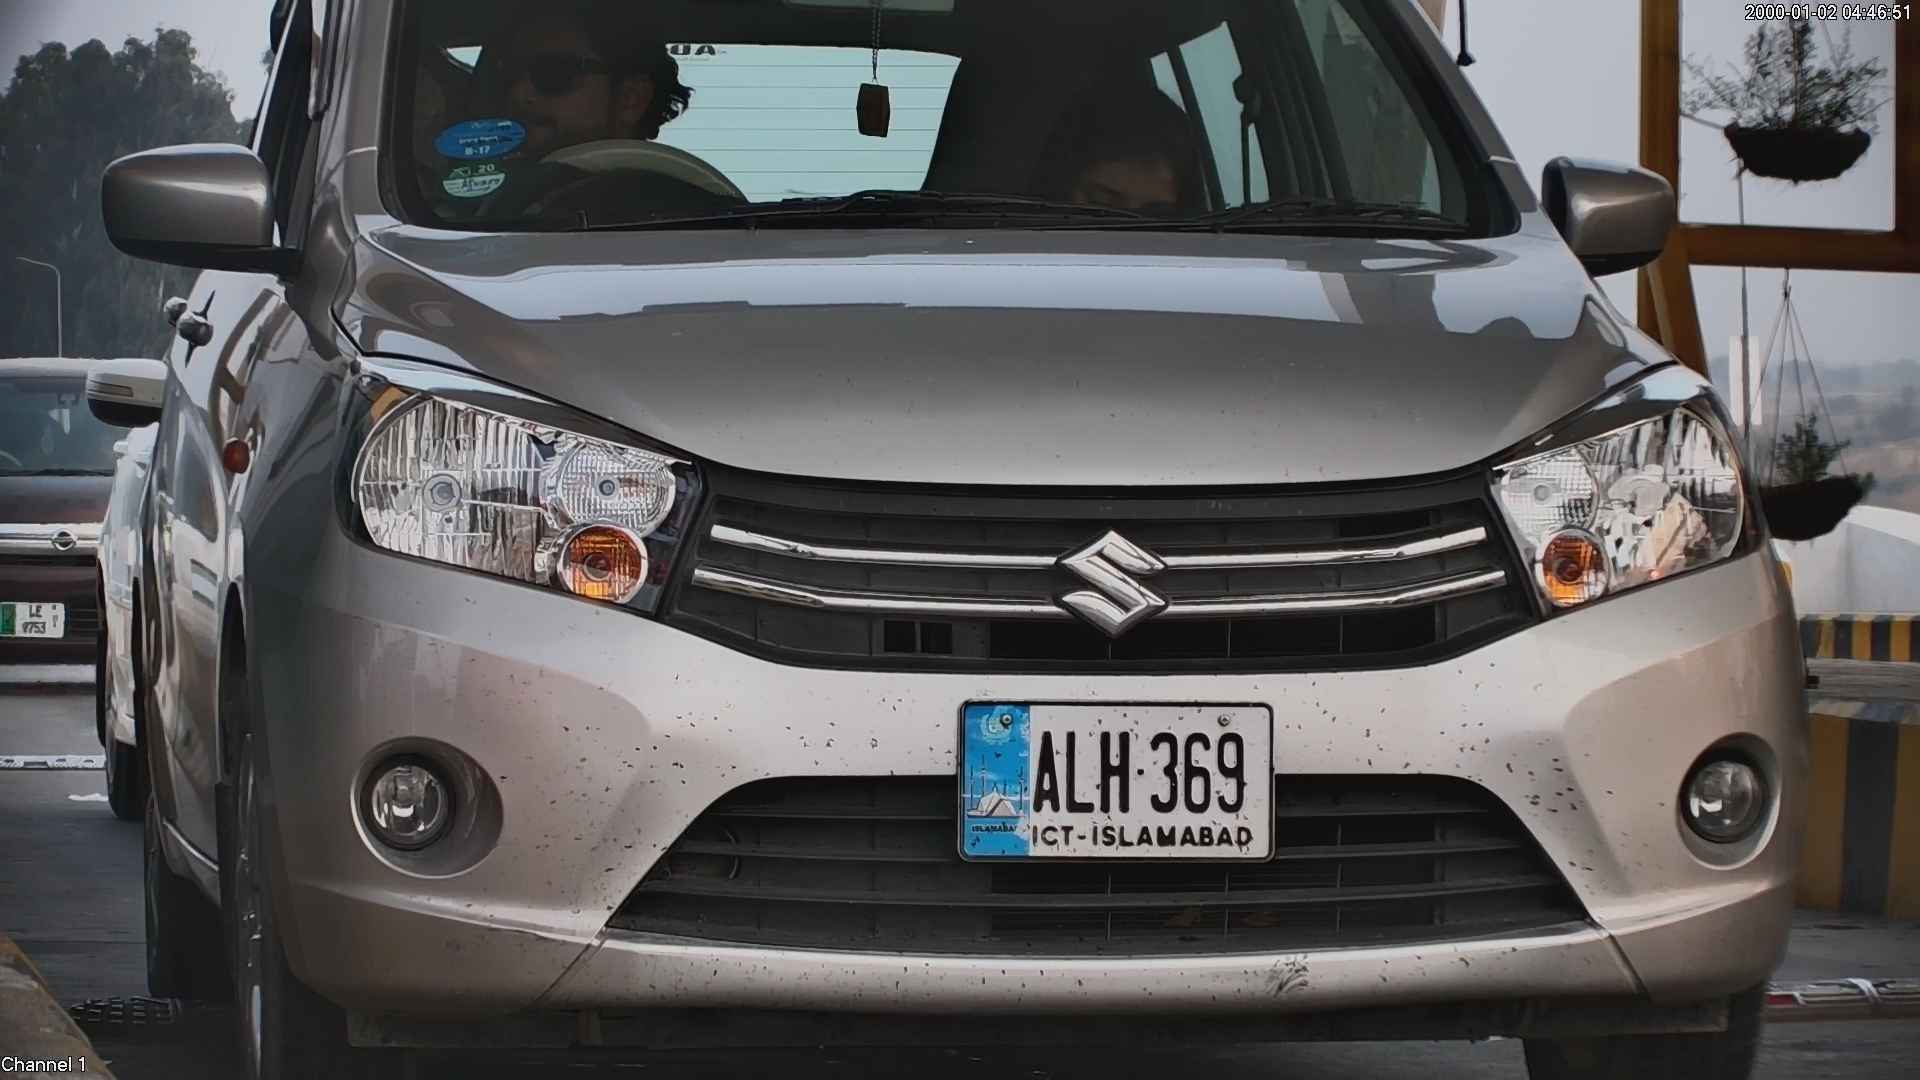Number_Plate: (947, 688, 1287, 879)
